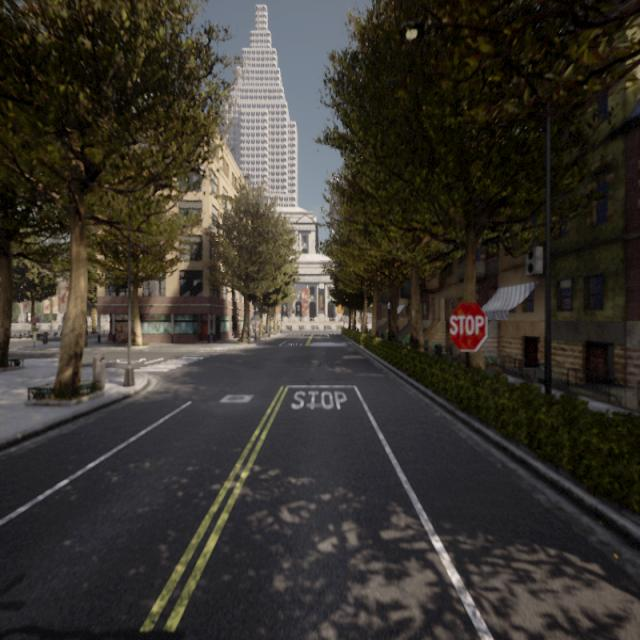stop sign: (446, 298, 489, 354)
